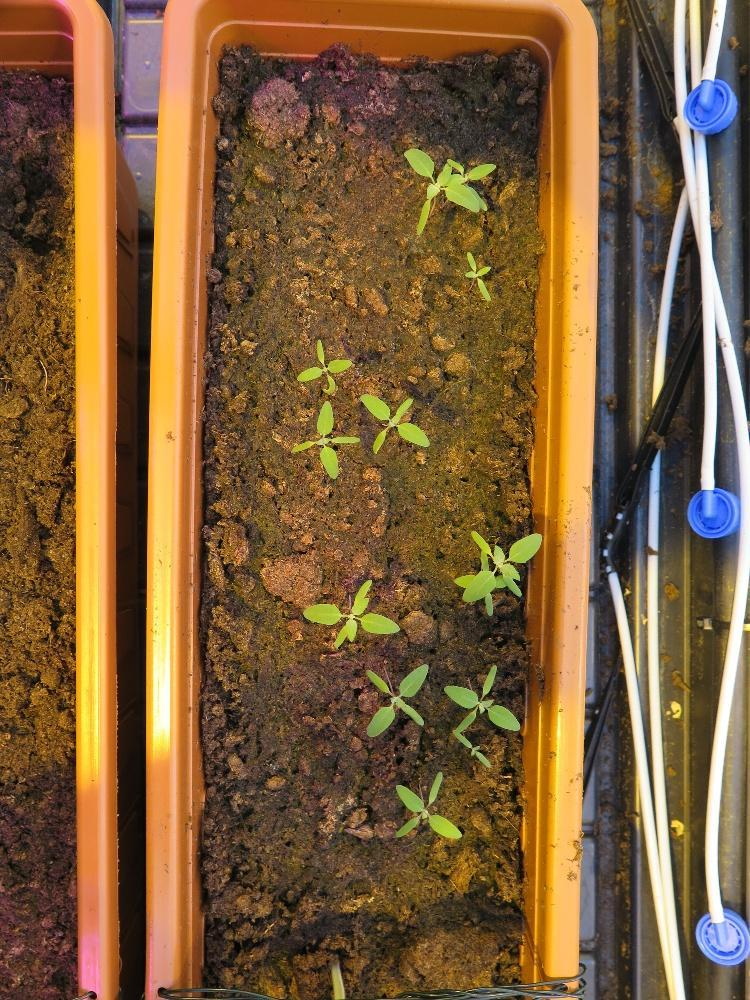weed: (289, 399, 358, 480), (363, 660, 428, 740), (358, 391, 429, 460), (393, 768, 461, 840), (295, 336, 351, 397), (463, 247, 492, 304)
